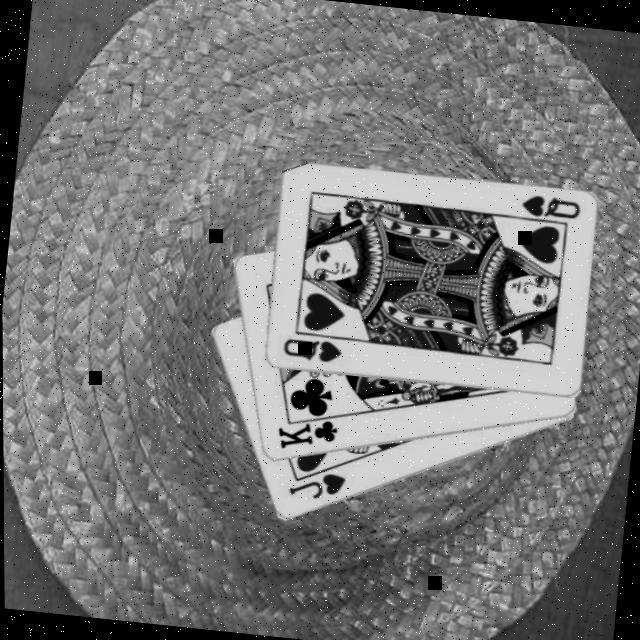JH: (285, 464, 350, 504)
KC: (273, 402, 345, 455)
QH: (510, 189, 585, 229), (279, 331, 346, 366)
